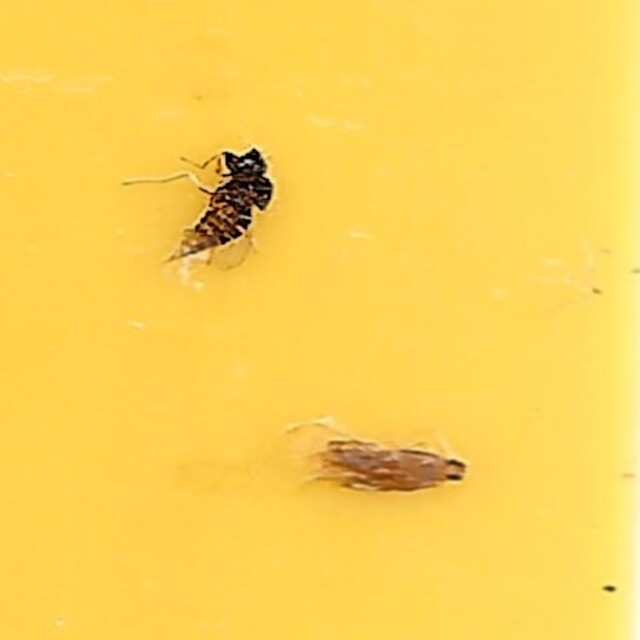Brachycera: (167, 141, 276, 270)
Trichoptera: (316, 442, 473, 499)
